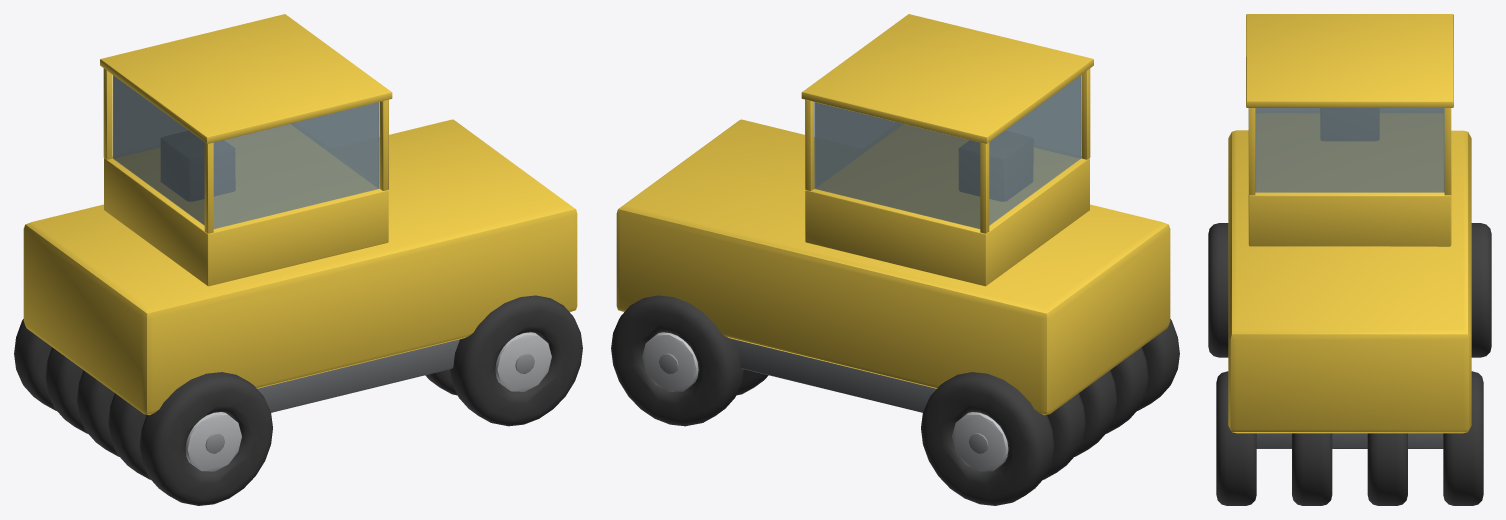
File: EQP-CMP-003_lod1.glb
3 renders of one model, left to right at view 1: azimuth 30°, elevation 25°; view 2: azimuth 150°, elevation 25°; view 3: azimuth 270°, elevation 25°, orthographic. The views are drawn at different scales.
Parts seen in each view (by area): view 1: EQP-CMP-003_corpo, EQP-CMP-003_cab_base, EQP-CMP-003_cab_teto, EQP-CMP-003_cab_vidro_e, EQP-CMP-003_rodat0_pneu, EQP-CMP-003_rodaf0_pneu, EQP-CMP-003_cab_vidro_t, EQP-CMP-003_lastro, EQP-CMP-003_cab_banco, EQP-CMP-003_rodat0_aro, EQP-CMP-003_rodaf0_aro, EQP-CMP-003_rodat4_pneu (+6 smaller); view 2: EQP-CMP-003_corpo, EQP-CMP-003_cab_base, EQP-CMP-003_cab_teto, EQP-CMP-003_cab_vidro_d, EQP-CMP-003_rodat4_pneu, EQP-CMP-003_rodaf3_pneu, EQP-CMP-003_cab_vidro_t, EQP-CMP-003_lastro, EQP-CMP-003_cab_banco, EQP-CMP-003_rodat4_aro, EQP-CMP-003_rodaf3_aro, EQP-CMP-003_rodat0_pneu (+6 smaller); view 3: EQP-CMP-003_corpo, EQP-CMP-003_cab_base, EQP-CMP-003_cab_teto, EQP-CMP-003_cab_vidro_f, EQP-CMP-003_rodaf0_pneu, EQP-CMP-003_rodaf3_pneu, EQP-CMP-003_rodaf1_pneu, EQP-CMP-003_rodaf2_pneu, EQP-CMP-003_rodat0_pneu, EQP-CMP-003_rodat4_pneu, EQP-CMP-003_cab_banco, EQP-CMP-003_lastro (+2 smaller).
Boxes of the visible parts, x1,y1,x2,y2 form: EQP-CMP-003_corpo: (23, 119, 577, 414); EQP-CMP-003_cab_base: (104, 124, 388, 286); EQP-CMP-003_cab_teto: (100, 14, 392, 143); EQP-CMP-003_cab_vidro_e: (213, 102, 379, 229); EQP-CMP-003_rodat0_pneu: (139, 372, 272, 505); EQP-CMP-003_rodaf0_pneu: (450, 295, 582, 426); EQP-CMP-003_cab_vidro_t: (113, 75, 204, 225); EQP-CMP-003_lastro: (257, 339, 459, 412); EQP-CMP-003_cab_banco: (161, 131, 234, 200); EQP-CMP-003_rodat0_aro: (185, 412, 241, 471); EQP-CMP-003_rodaf0_aro: (495, 332, 551, 391); EQP-CMP-003_rodat4_pneu: (14, 319, 56, 410); EQP-CMP-003_corpo: (616, 119, 1170, 414); EQP-CMP-003_cab_base: (805, 124, 1089, 286); EQP-CMP-003_cab_teto: (801, 14, 1093, 143); EQP-CMP-003_cab_vidro_d: (814, 102, 980, 229); EQP-CMP-003_rodat4_pneu: (921, 372, 1054, 505); EQP-CMP-003_rodaf3_pneu: (611, 295, 743, 426); EQP-CMP-003_cab_vidro_t: (989, 75, 1080, 225); EQP-CMP-003_lastro: (734, 339, 936, 412); EQP-CMP-003_cab_banco: (959, 131, 1033, 200); EQP-CMP-003_rodat4_aro: (952, 412, 1008, 471); EQP-CMP-003_rodaf3_aro: (642, 332, 698, 391); EQP-CMP-003_rodat0_pneu: (1137, 319, 1179, 410); EQP-CMP-003_corpo: (1228, 130, 1471, 433); EQP-CMP-003_cab_base: (1248, 114, 1451, 246); EQP-CMP-003_cab_teto: (1246, 14, 1453, 107); EQP-CMP-003_cab_vidro_f: (1255, 108, 1444, 192); EQP-CMP-003_rodaf0_pneu: (1216, 371, 1256, 505); EQP-CMP-003_rodaf3_pneu: (1443, 371, 1483, 505); EQP-CMP-003_rodaf1_pneu: (1292, 433, 1332, 505); EQP-CMP-003_rodaf2_pneu: (1367, 433, 1407, 505); EQP-CMP-003_rodat0_pneu: (1208, 223, 1228, 357); EQP-CMP-003_rodat4_pneu: (1471, 223, 1491, 357); EQP-CMP-003_cab_banco: (1321, 108, 1378, 140); EQP-CMP-003_lastro: (1256, 433, 1443, 448).
Bounding box in the file's own units: 3.6 × 2.8 × 2.1.
